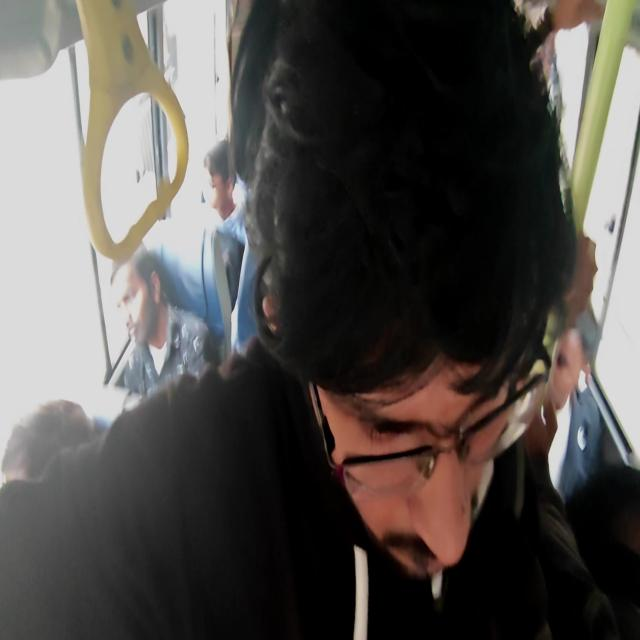person: (228, 29, 568, 569), (533, 254, 602, 439), (10, 390, 69, 536), (111, 244, 158, 354), (201, 134, 242, 227)
